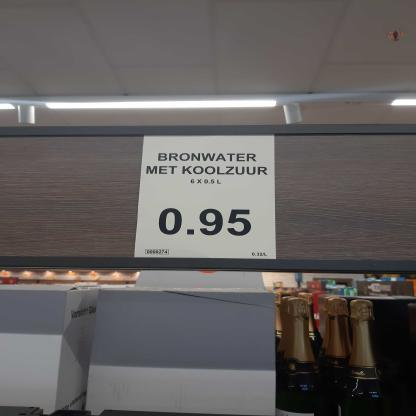prtg: (133, 135, 278, 262)
